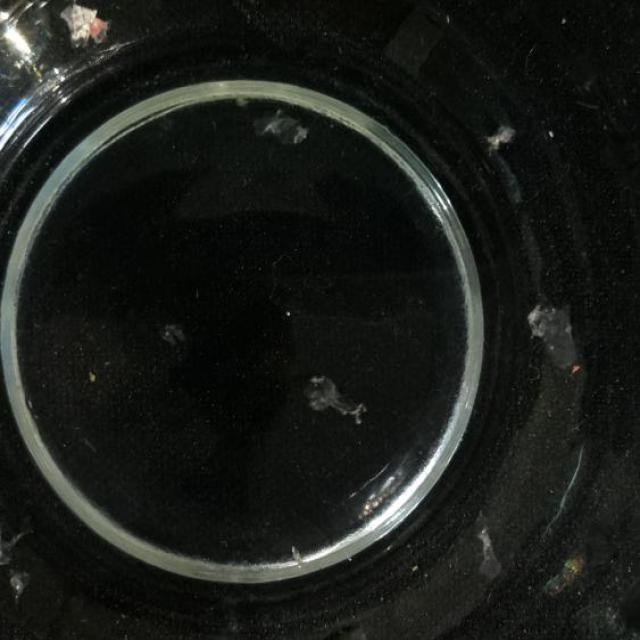fiber: (385, 8, 449, 74), (306, 374, 367, 432), (528, 298, 575, 367), (0, 523, 37, 607), (253, 100, 310, 153), (58, 2, 110, 48), (542, 552, 584, 600), (474, 524, 502, 584), (486, 124, 518, 153), (161, 323, 185, 346), (287, 544, 307, 566), (89, 367, 96, 388)
